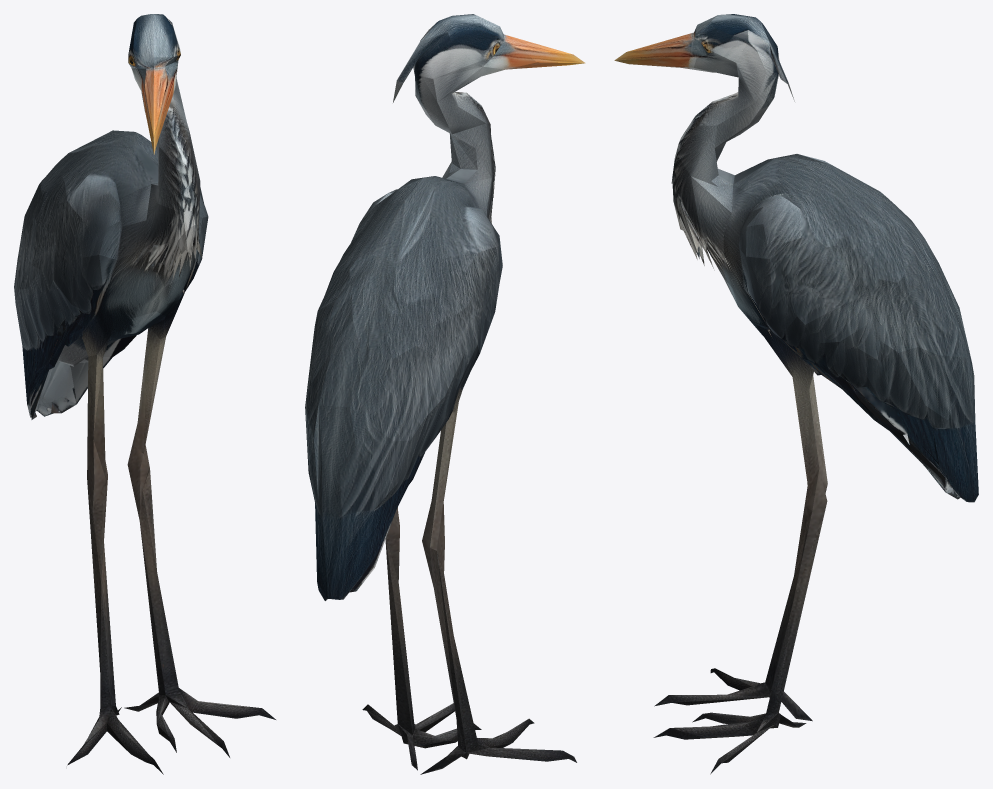
The model's file is heron.glb.
3 views of the same model, side by side, from view 1: azimuth 30°, elevation 25°; view 2: azimuth 150°, elevation 25°; view 3: azimuth 270°, elevation 25° (orthographic). The views are drawn at different scales.
Size of the model in its own units: 0.588 by 1.9 by 0.89.
1 material, 1 textured.
